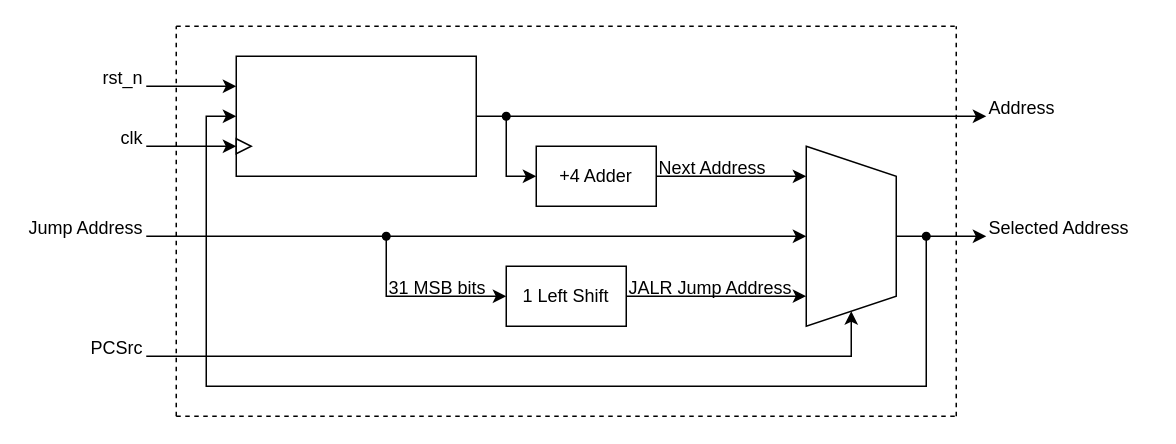
Some shapes in this 1176 by 444 pixel diagram are drawn without their labels. The shapes that lost their labels are listed below. From the top down, each one's centre as x and y in pixels, then its label:
point 355,115: 32-bits Register
point 850,235: Target Address Mux
